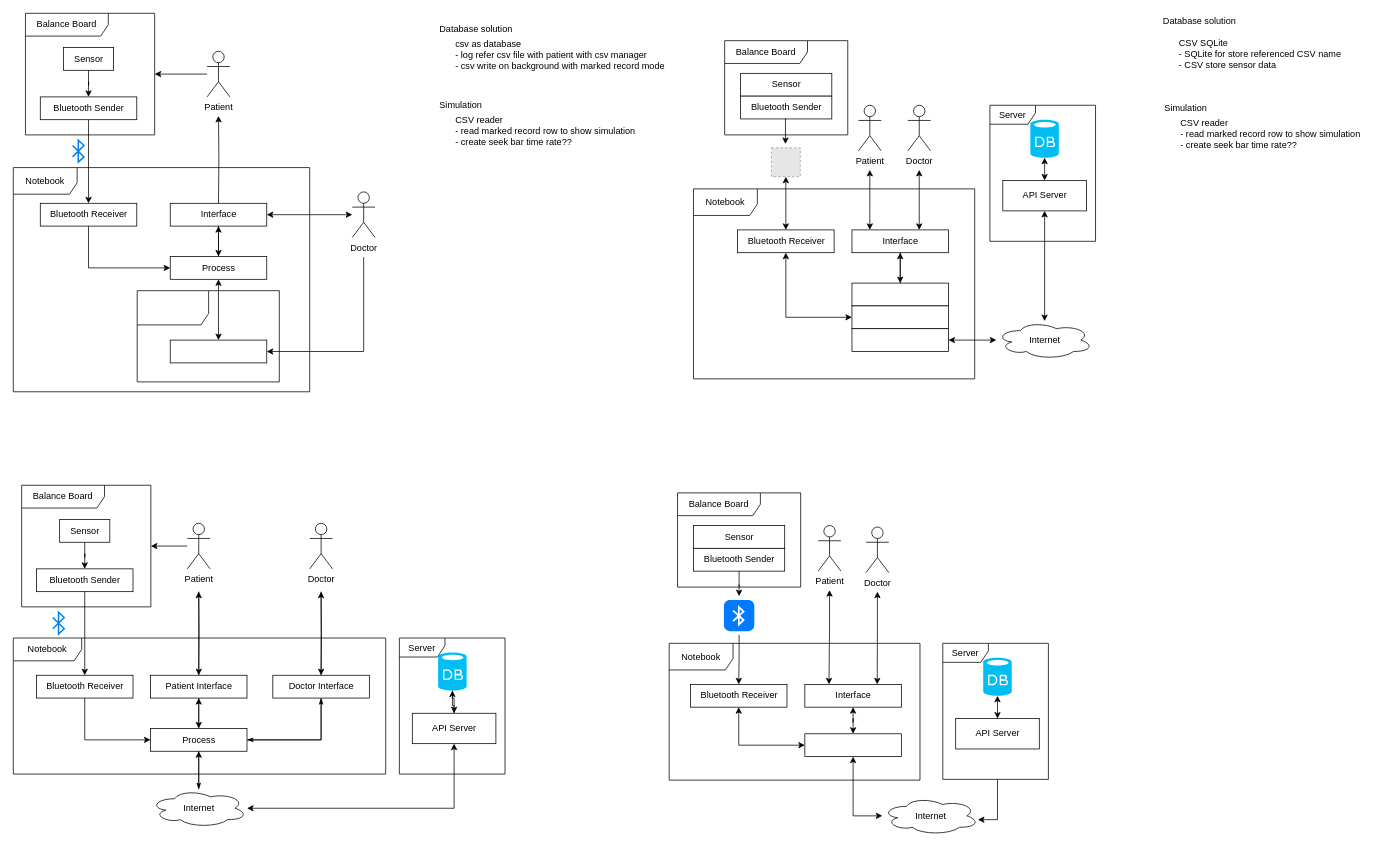
The diagram is 1390 pixels wide and 848 high, and some of its shapes have lost their labels. Grey dashed boxes stand in for pictures. The box of each missing label's shape, as (x1, y1, x2, y2) in pixels:
3D Engine: (851, 282, 948, 306)
Main Process: (851, 305, 948, 329)
Precesser: (804, 733, 901, 757)
Run on background: (136, 290, 279, 382)
Service Wrapper: (851, 328, 948, 352)
Storage: (169, 339, 267, 363)
